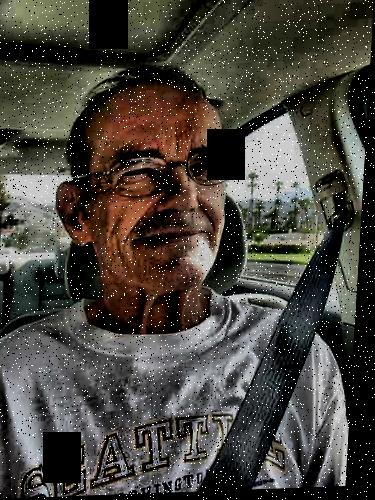seatbelt: (214, 219, 343, 466)
